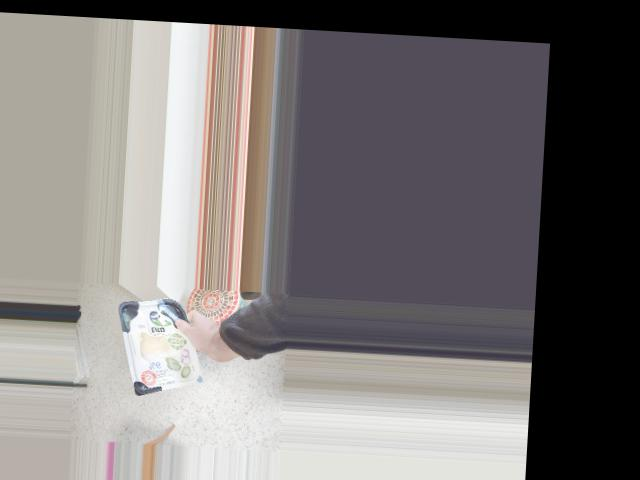cheese: (113, 294, 206, 394)
